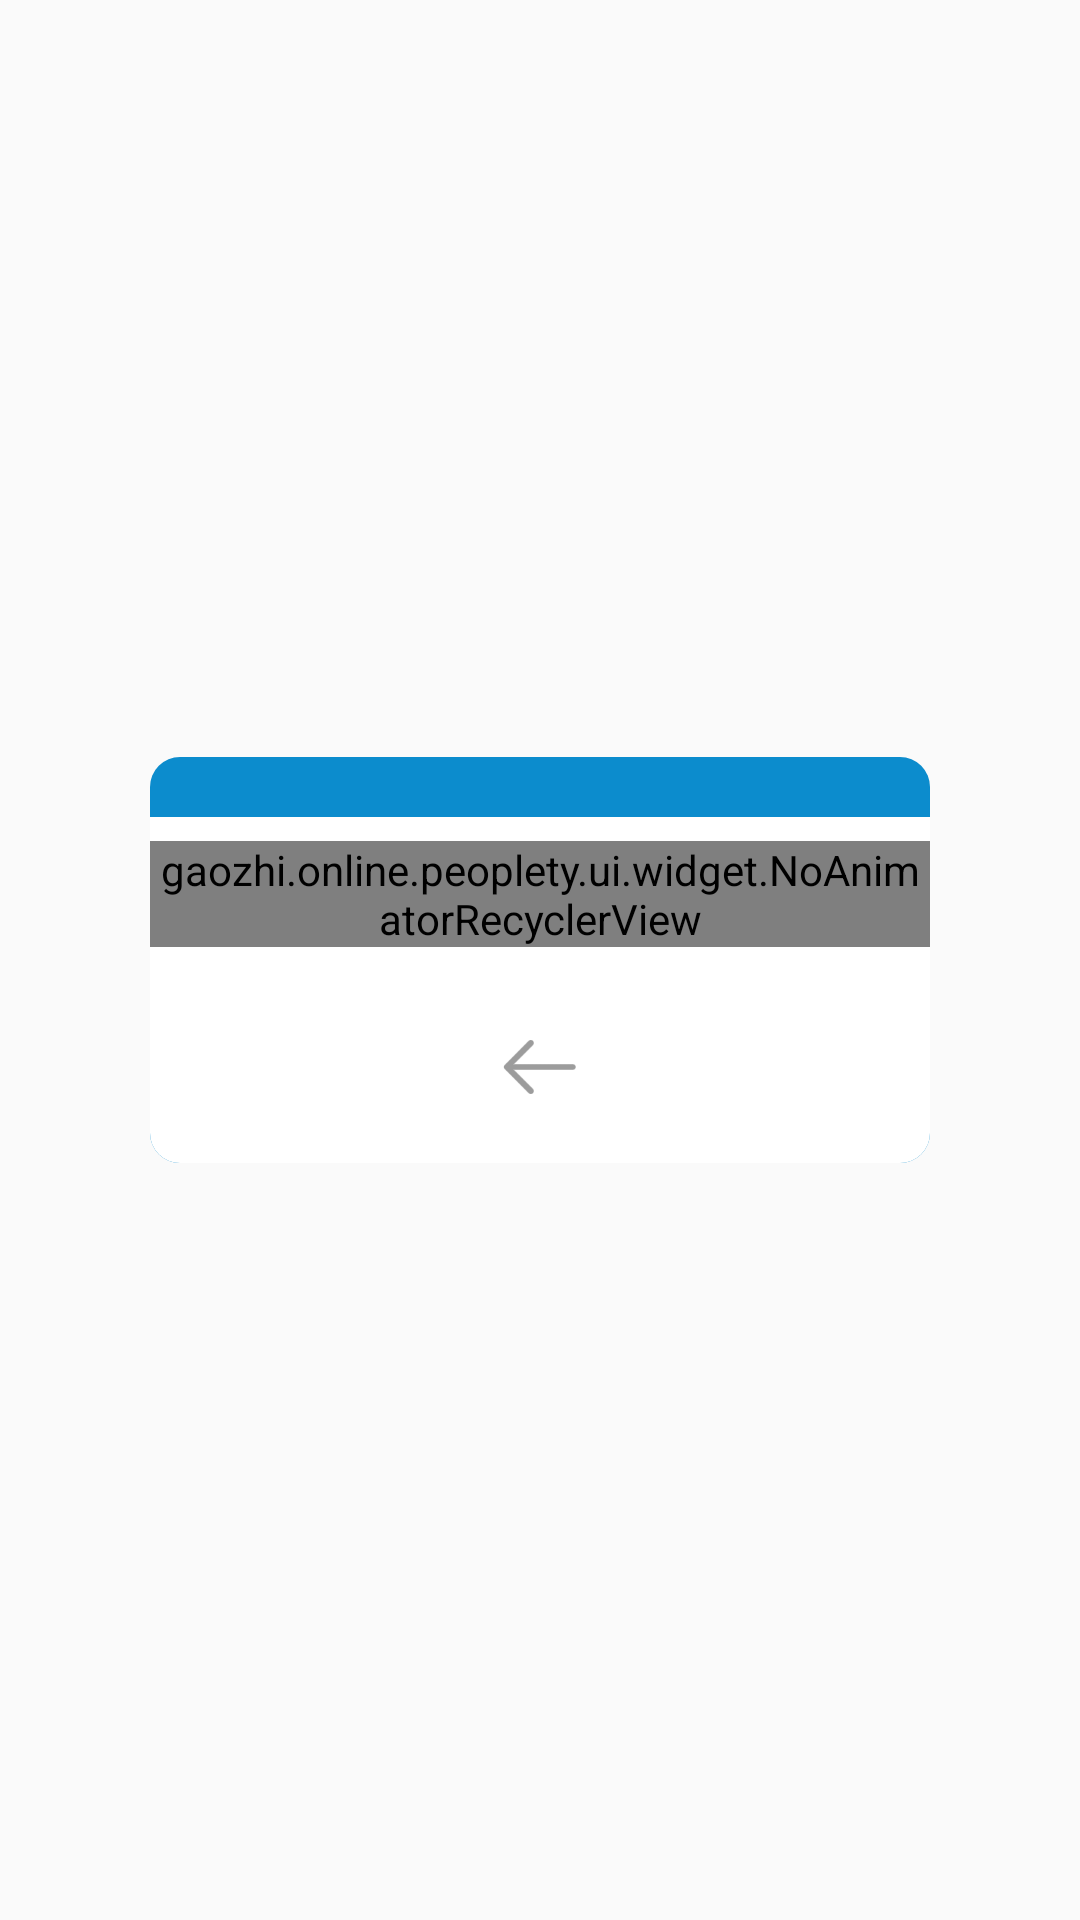

Point at icon controls on the screen. Image size 1080w x 1920h, points as point (x, y).
arrow left: point (540, 1067)
